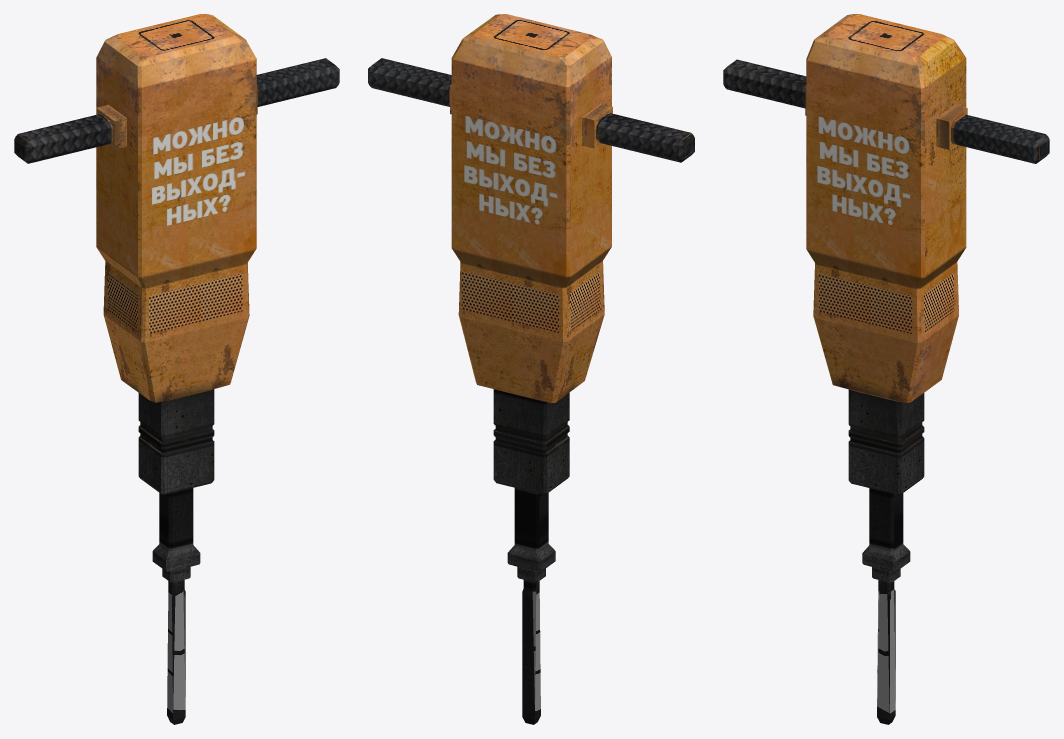
File: jackhammer_bump.fbx
The picture shows the model from 3 angles, left to right: view 1: azimuth 30°, elevation 25°; view 2: azimuth 150°, elevation 25°; view 3: azimuth 330°, elevation 25°; orthographic projection.
Parts seen in each view (by area): view 1: Cube_1; view 2: Cube_1; view 3: Cube_1.
Part boxes in pixels (x1=…): Cube_1: x1=14, y1=14, x2=339, y2=724; Cube_1: x1=368, y1=14, x2=694, y2=724; Cube_1: x1=723, y1=14, x2=1049, y2=724.
Bounding box in the file's own units: 123 × 256 × 29.99.
1 material, 1 textured.
